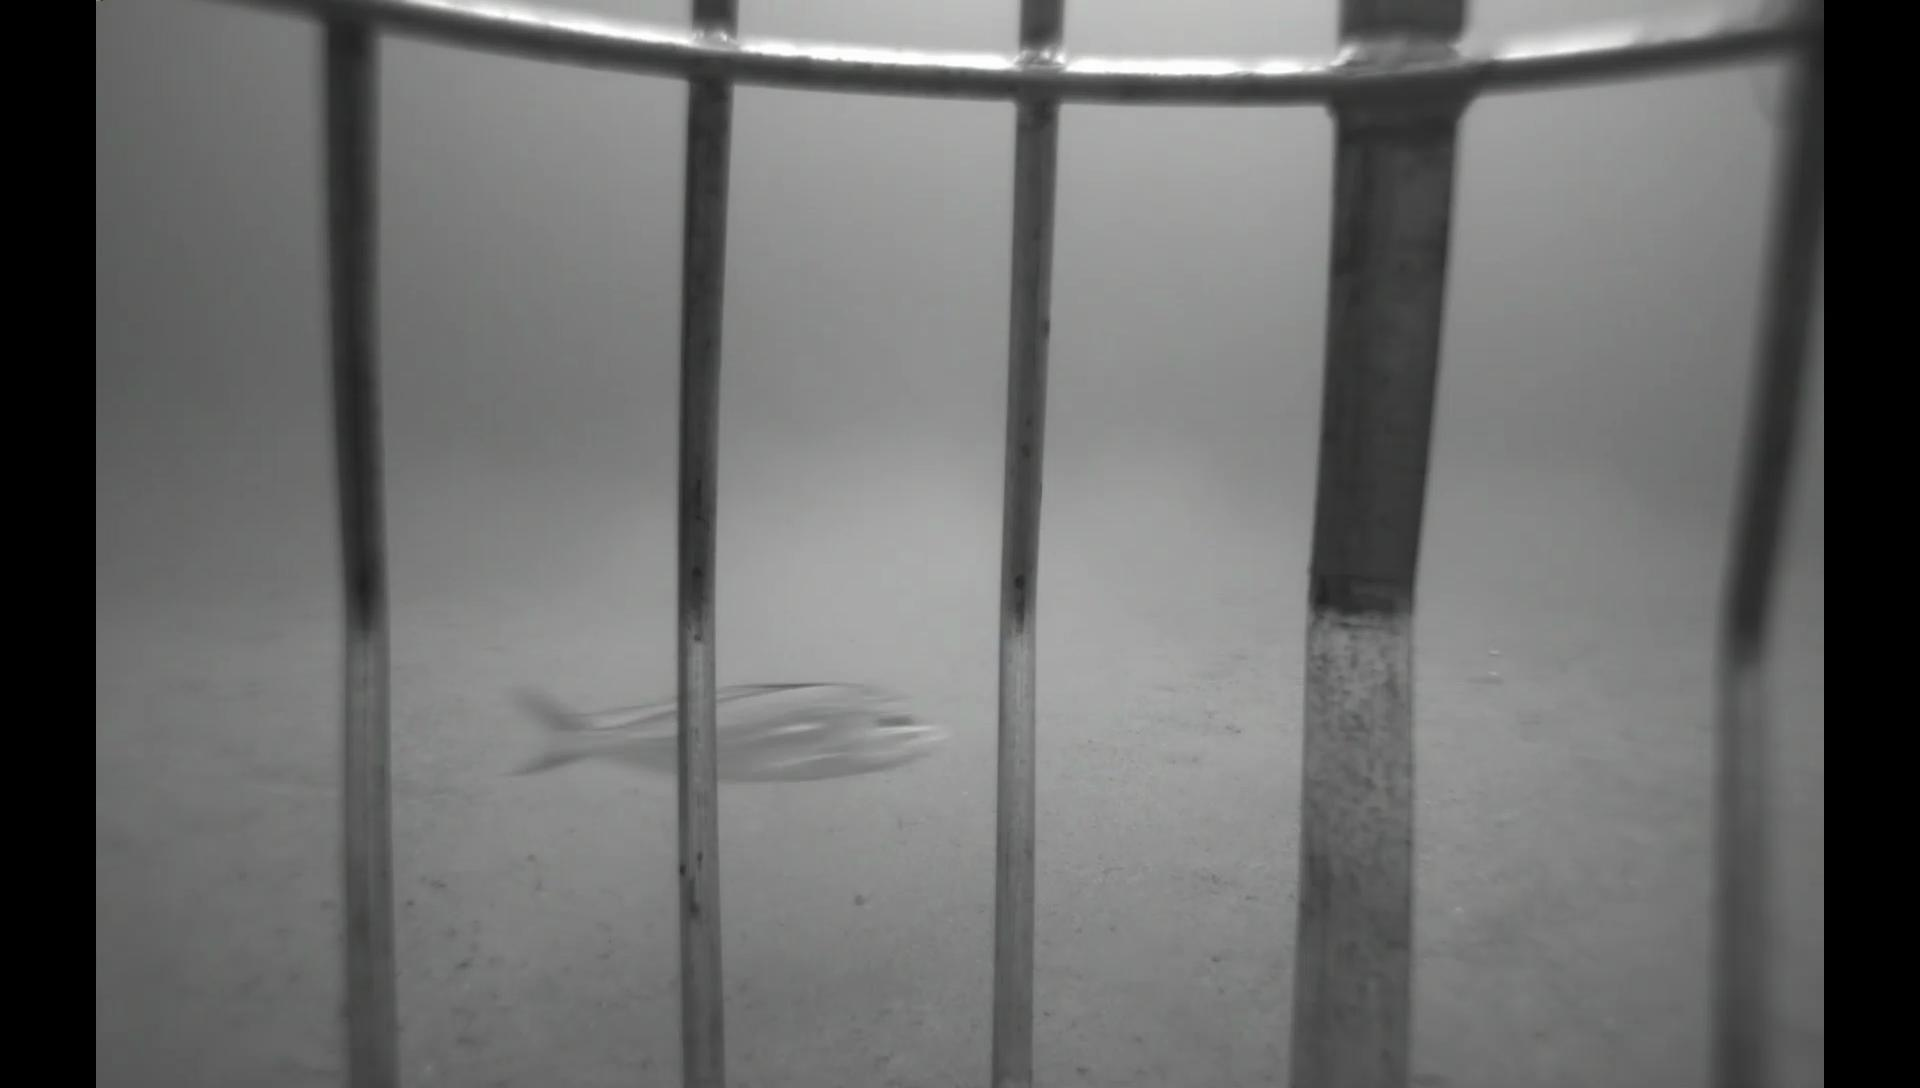CAULOLATILUSCYANOPS-170070101: (483, 663, 959, 808)
SYACIUM-183011000: (1143, 699, 1249, 742)
